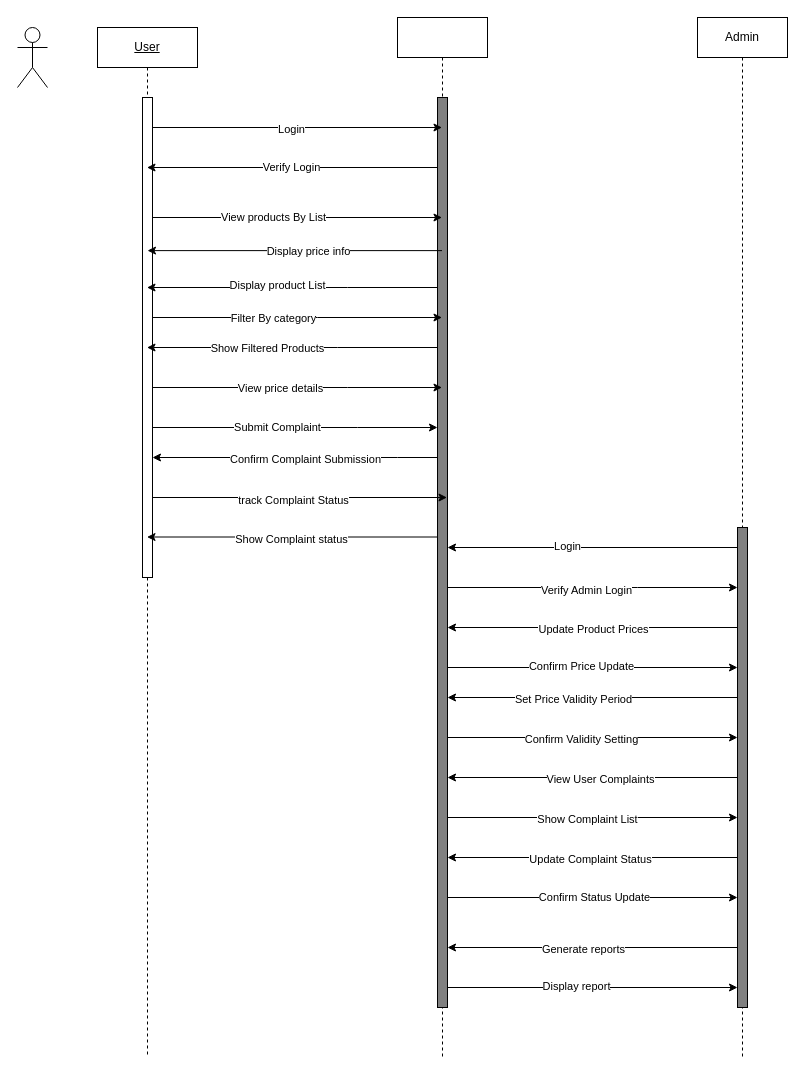
This 805x1075 diagram has some shape labels left out. The shapes that lost their labels are listed below. From the top down, each one's box as (x1, y1, x2, y2) in pixels, then its label:
(16, 26, 48, 88): Actor
(396, 16, 488, 1058): Food price control Website
